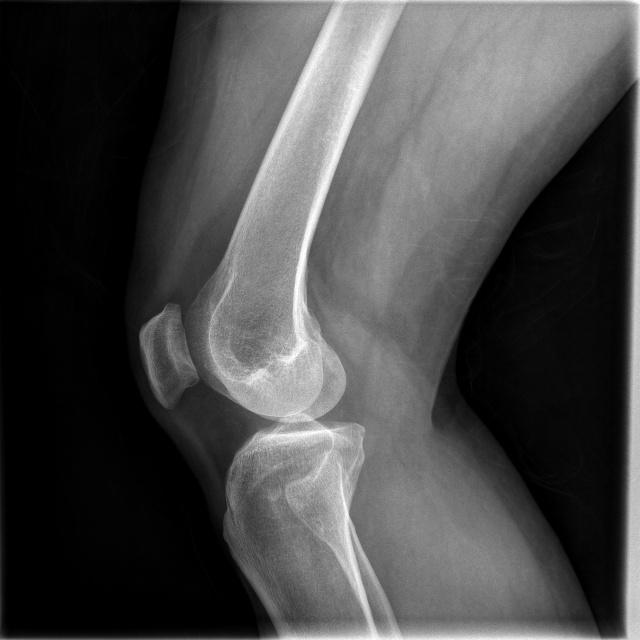Knee: (135, 279, 365, 509)
